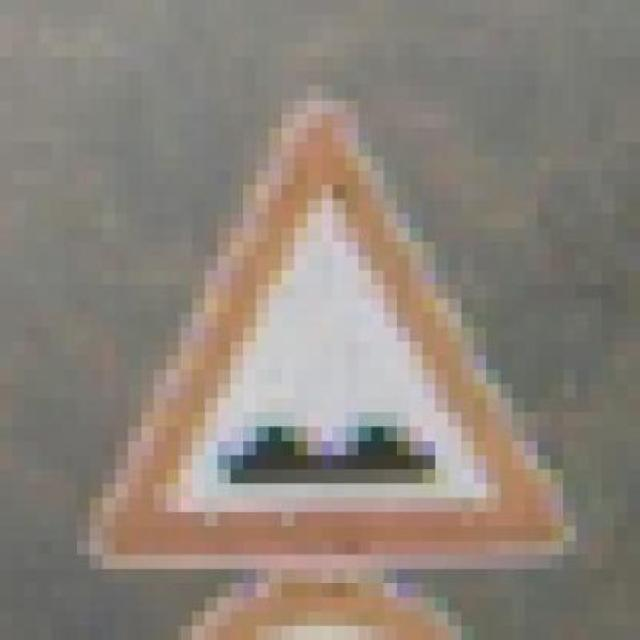Uneven Road: (77, 71, 589, 569)
